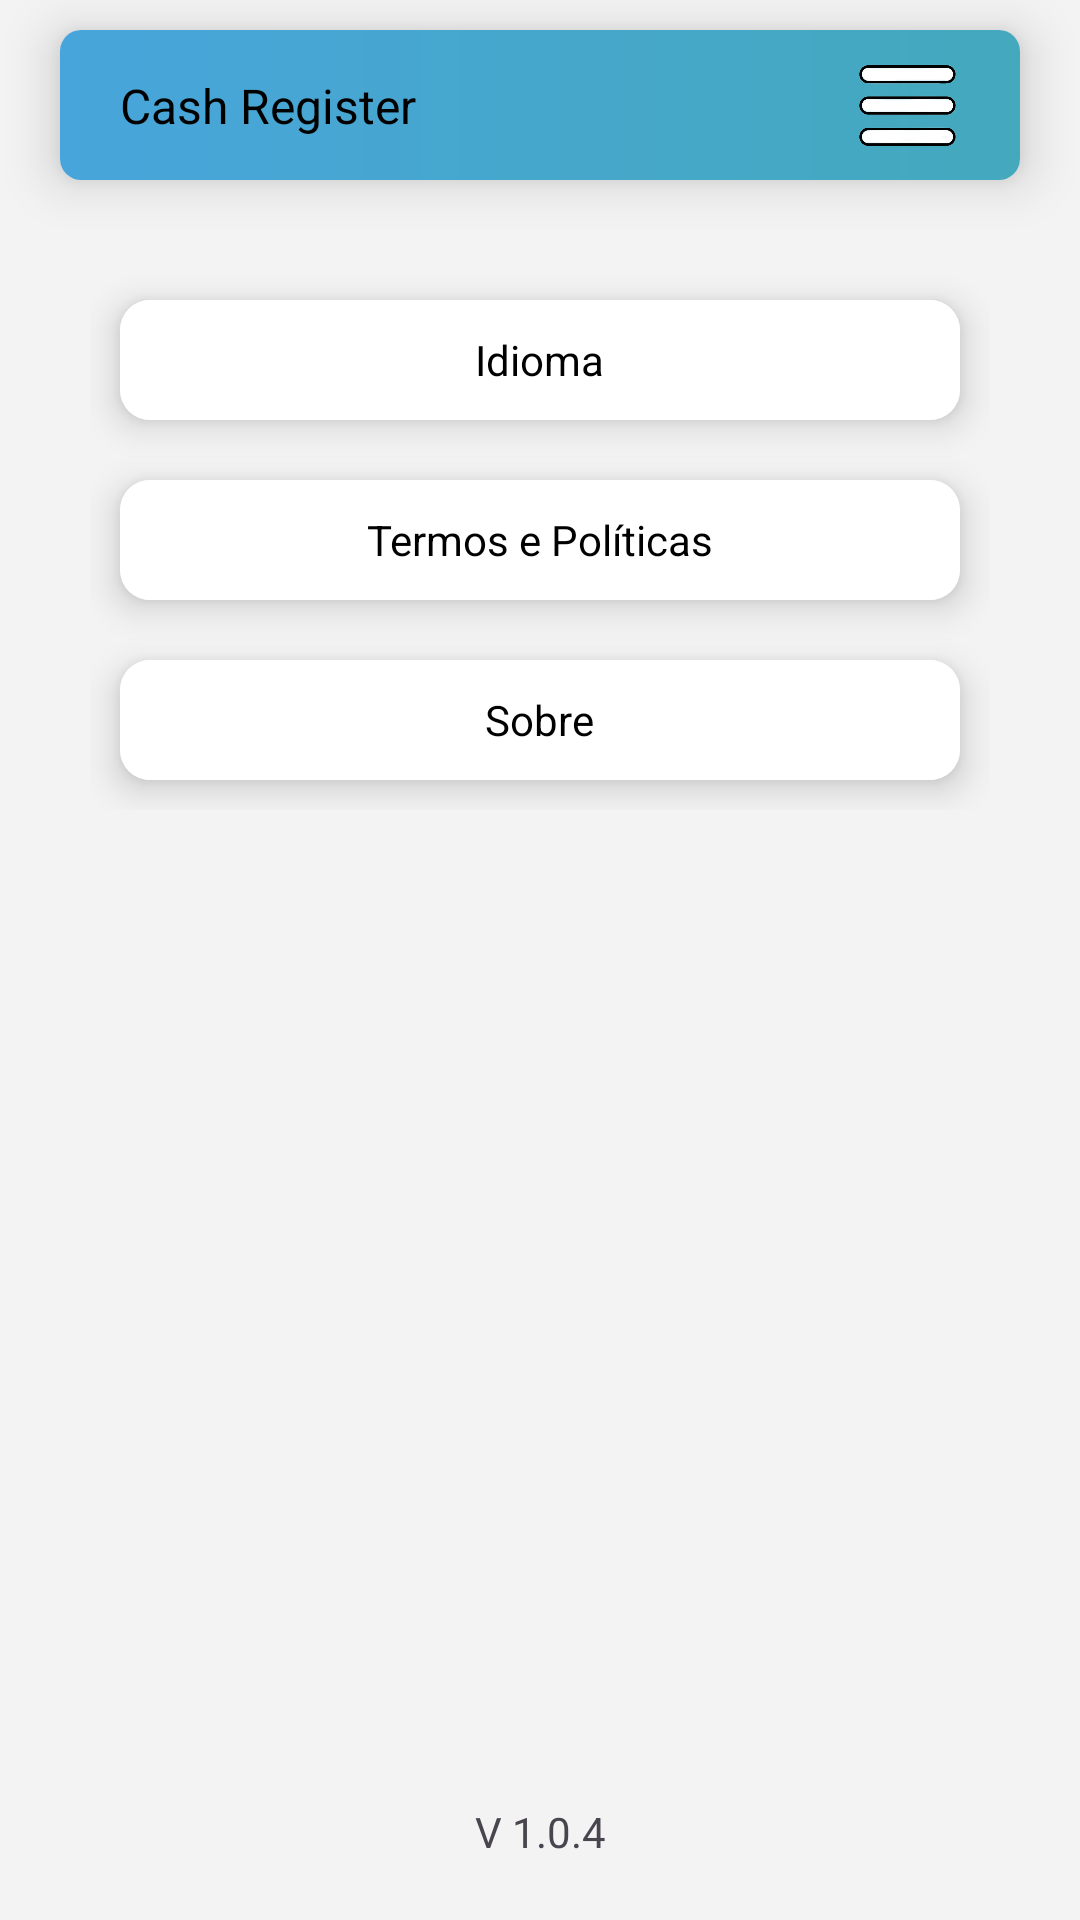

Locate icon controls on the screen. Image size 1080x1920, boxes as detection(x1, y1, x2, y2).
menu: detection(859, 65, 956, 146)
